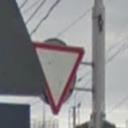preferencia: (29, 38, 86, 120)
